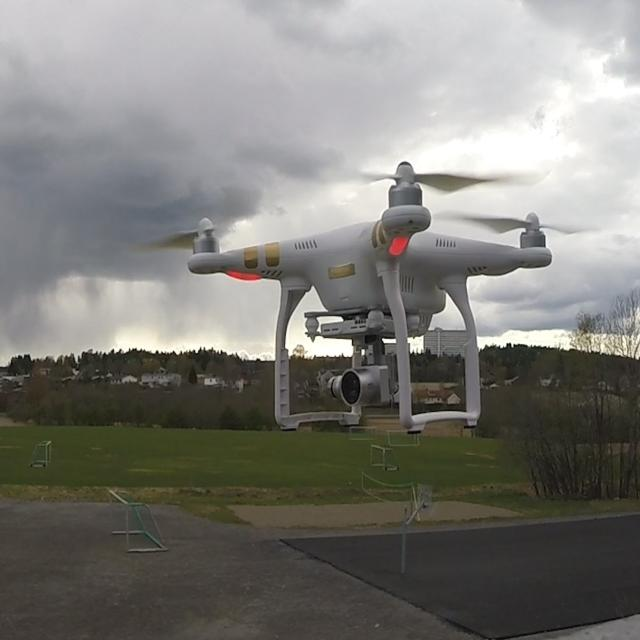Drone_FW: (135, 159, 600, 434)
